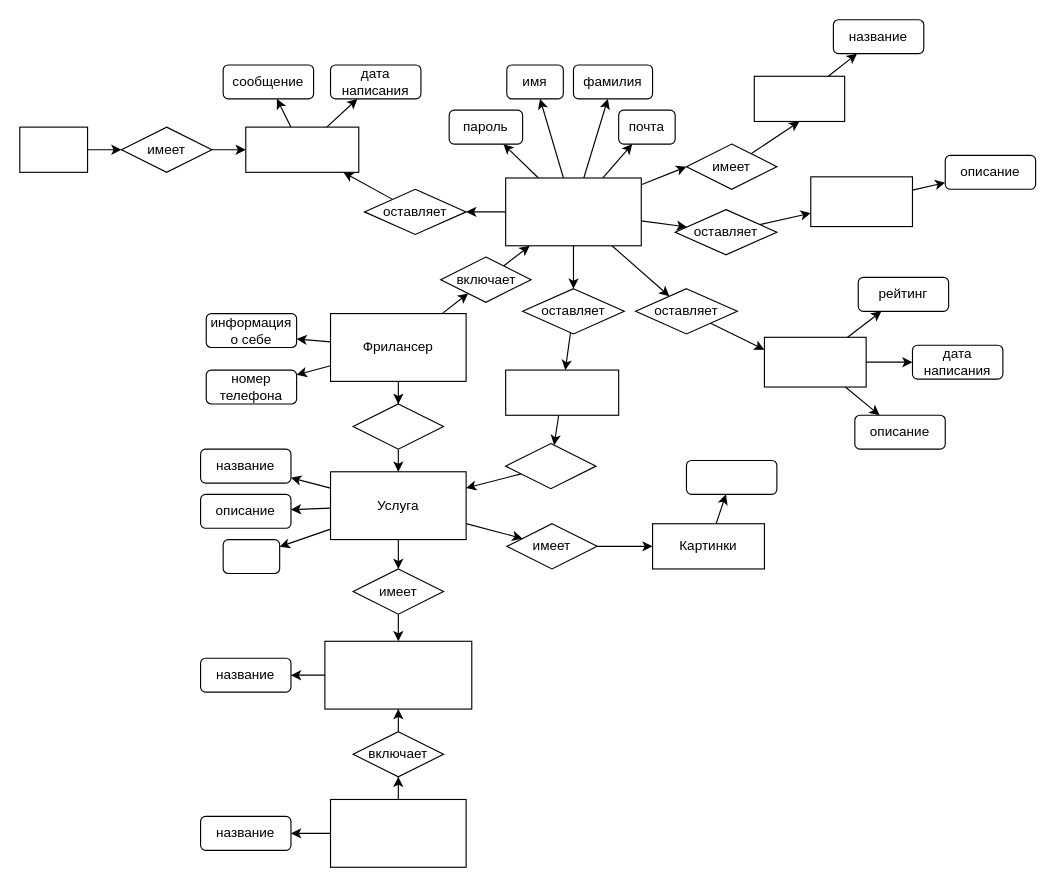
Some shapes in this 1055 by 887 pixel diagram are drawn without their labels. The box of each missing label's shape, as (x1, y1, x2, y2) in pixels:
включают: (505, 442, 596, 489)
Заказы: (505, 369, 619, 415)
Категория услуги: (329, 798, 466, 867)
Отзывы: (763, 336, 866, 387)
Отклики: (810, 176, 912, 227)
Подкатегория услуги: (324, 640, 472, 709)
Пользователь: (505, 177, 641, 246)
путь до картинки: (685, 459, 777, 494)
Роль: (753, 75, 845, 121)
создает: (352, 403, 444, 449)
Сообщения: (245, 126, 359, 172)
цена: (222, 538, 280, 573)
Чат: (19, 126, 88, 172)
